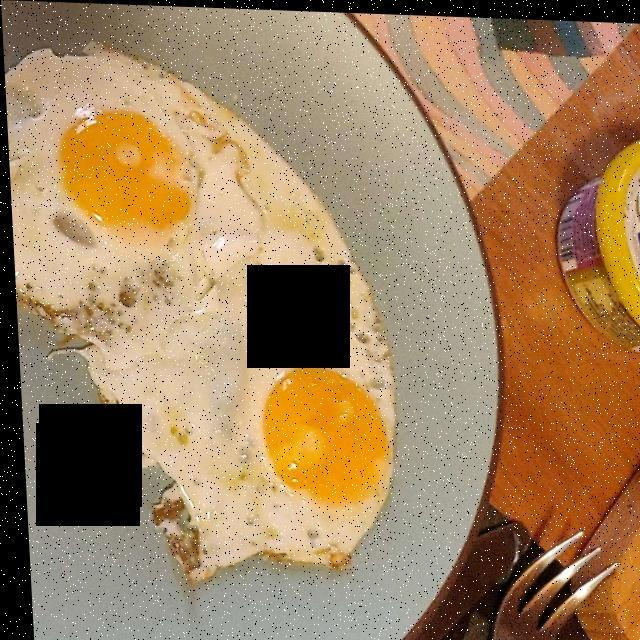egg: (12, 45, 386, 574)
